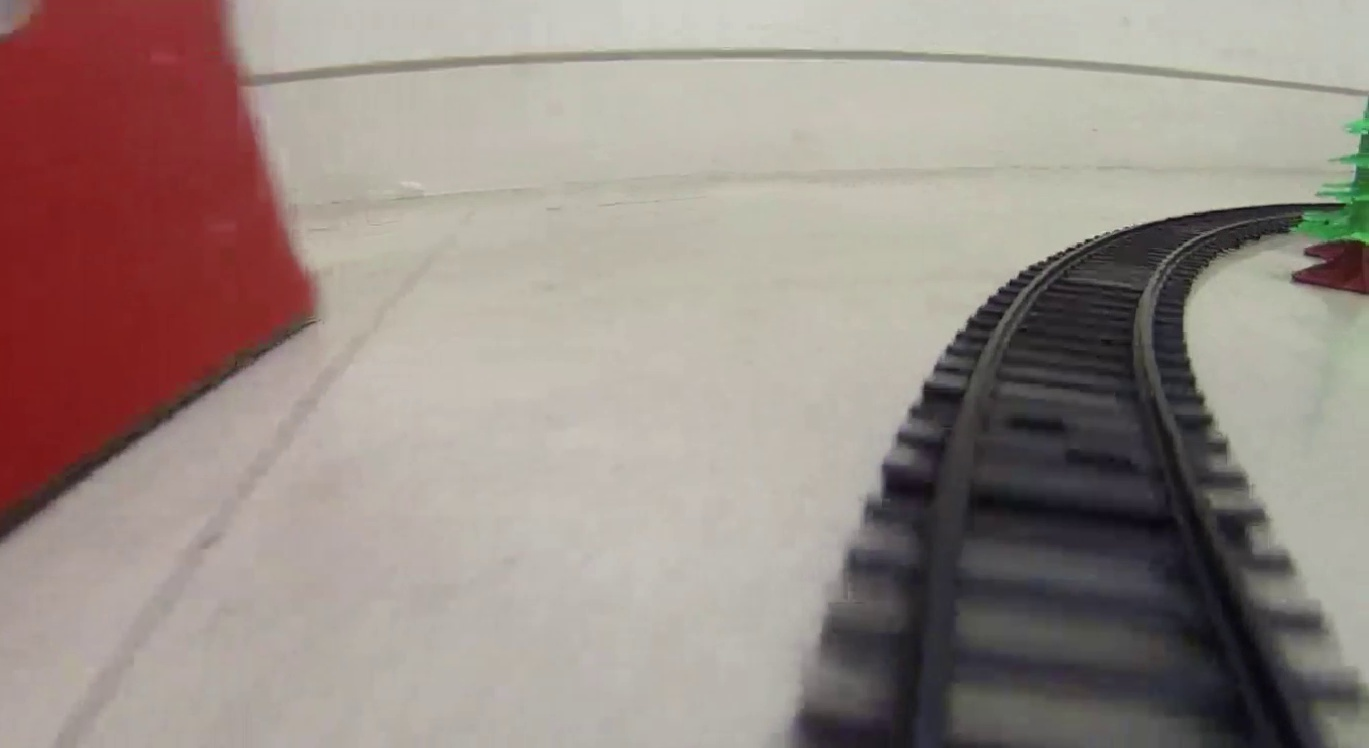tree: (1301, 97, 1369, 293)
